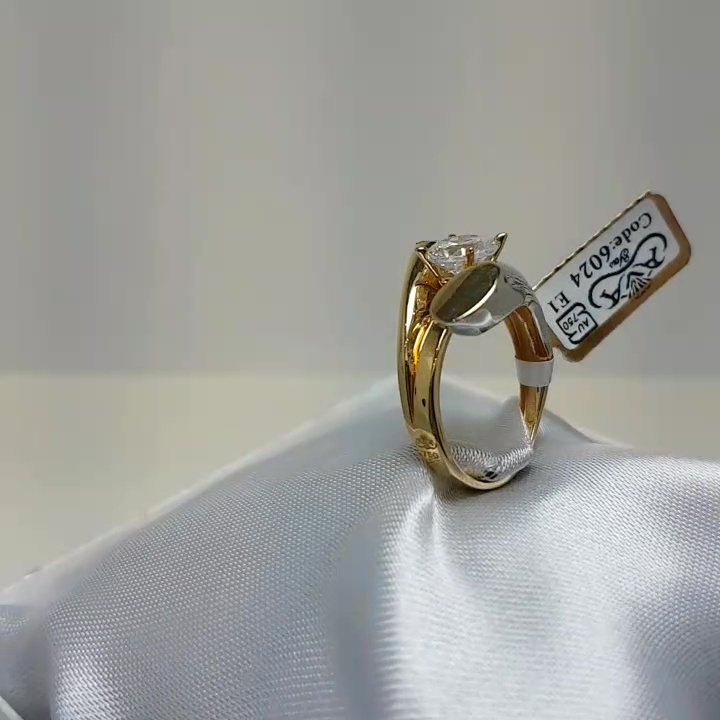Ring 7: (383, 218, 572, 518)
